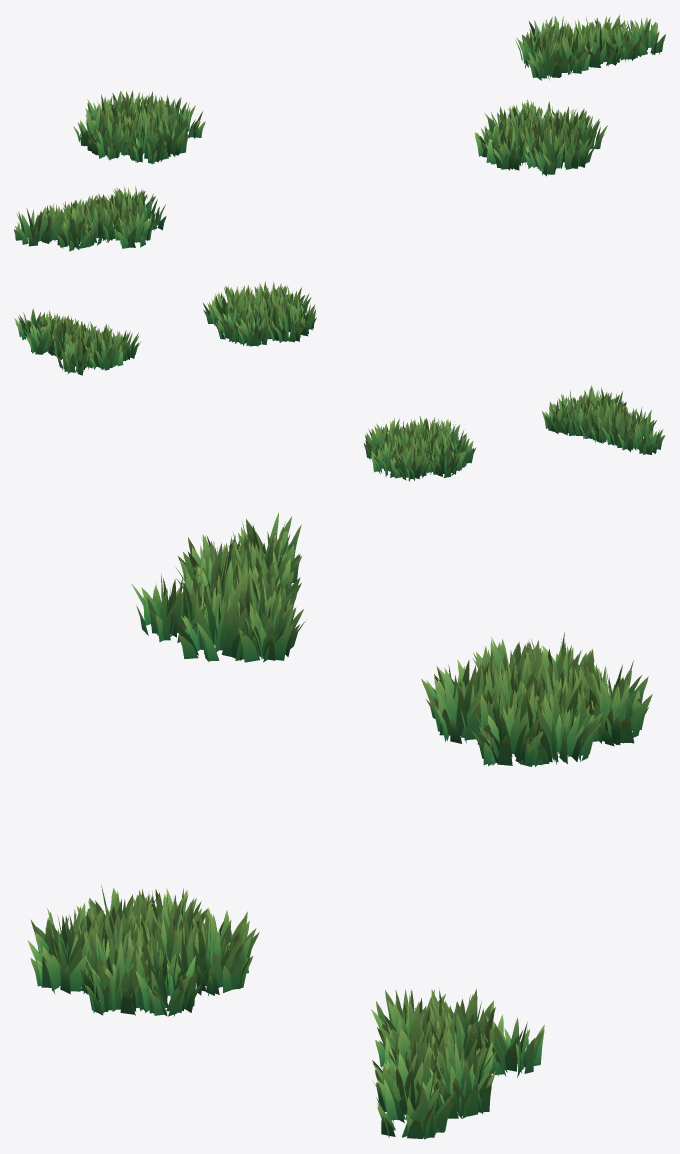
Rendered from twinlakes_grass.glb.
3 renders of one model, top to bottom at view 1: azimuth 30°, elevation 25°; view 2: azimuth 150°, elevation 25°; view 3: azimuth 270°, elevation 25°, orthographic. The views are drawn at different scales.
Visible parts, largest first — view 1: Grass_22_16, Grass_10_8, Grass_11_9, Grass_4_13, Grass_23_17, Grass_29_10, Grass_28_10, Grass_5_14, Grass_6_14, Grass_7_15, Grass_27_10, Grass_31_10 (+23 smaller); view 2: Grass_10_7, Grass_11_6, Grass_5_13, Grass_27_9, Grass_23_14, Grass_30_9, Grass_22_15, Grass_28_8, Grass_4_13, Grass_12_6, Grass_8_13, Grass_6_13 (+23 smaller); view 3: Grass_8_14, Grass_13_7, Grass_25_15, Grass_31_10, Grass_8_13, Grass_13_8, Grass_12_6, Grass_24_14, Grass_24_17, Grass_30_9, Grass_25_16, Grass_12_9 (+30 smaller).
Boxes of the visible parts, bbox=[...] form: Grass_22_16: bbox=[486, 121, 530, 170]; Grass_10_8: bbox=[87, 114, 129, 160]; Grass_11_9: bbox=[126, 116, 173, 164]; Grass_4_13: bbox=[14, 206, 57, 246]; Grass_23_17: bbox=[525, 129, 569, 176]; Grass_29_10: bbox=[573, 23, 621, 67]; Grass_28_10: bbox=[553, 27, 592, 74]; Grass_5_14: bbox=[56, 206, 94, 251]; Grass_6_14: bbox=[76, 198, 119, 245]; Grass_7_15: bbox=[110, 206, 153, 248]; Grass_27_10: bbox=[526, 33, 565, 80]; Grass_31_10: bbox=[621, 17, 665, 56]; Grass_10_7: bbox=[425, 436, 466, 477]; Grass_11_6: bbox=[390, 441, 431, 481]; Grass_5_13: bbox=[601, 406, 642, 451]; Grass_27_9: bbox=[85, 330, 123, 370]; Grass_23_14: bbox=[234, 312, 272, 346]; Grass_30_9: bbox=[23, 318, 60, 355]; Grass_22_15: bbox=[267, 300, 305, 342]; Grass_28_8: bbox=[53, 340, 93, 375]; Grass_4_13: bbox=[629, 419, 665, 454]; Grass_12_6: bbox=[371, 439, 407, 477]; Grass_8_13: bbox=[542, 394, 575, 434]; Grass_6_13: bbox=[583, 404, 620, 443]; Grass_8_14: bbox=[175, 583, 246, 661]; Grass_13_7: bbox=[525, 690, 602, 766]; Grass_25_15: bbox=[132, 933, 201, 1017]; Grass_31_10: bbox=[376, 1061, 455, 1139]; Grass_8_13: bbox=[233, 583, 305, 662]; Grass_13_8: bbox=[471, 684, 543, 766]; Grass_12_6: bbox=[572, 666, 652, 746]; Grass_24_14: bbox=[185, 912, 252, 995]; Grass_24_17: bbox=[27, 915, 103, 994]; Grass_30_9: bbox=[422, 1038, 495, 1118]; Grass_25_16: bbox=[80, 936, 154, 1015]; Grass_12_9: bbox=[426, 668, 497, 744].
Bounding box in the file's own units: 14.26 × 0.6793 × 6.37.
